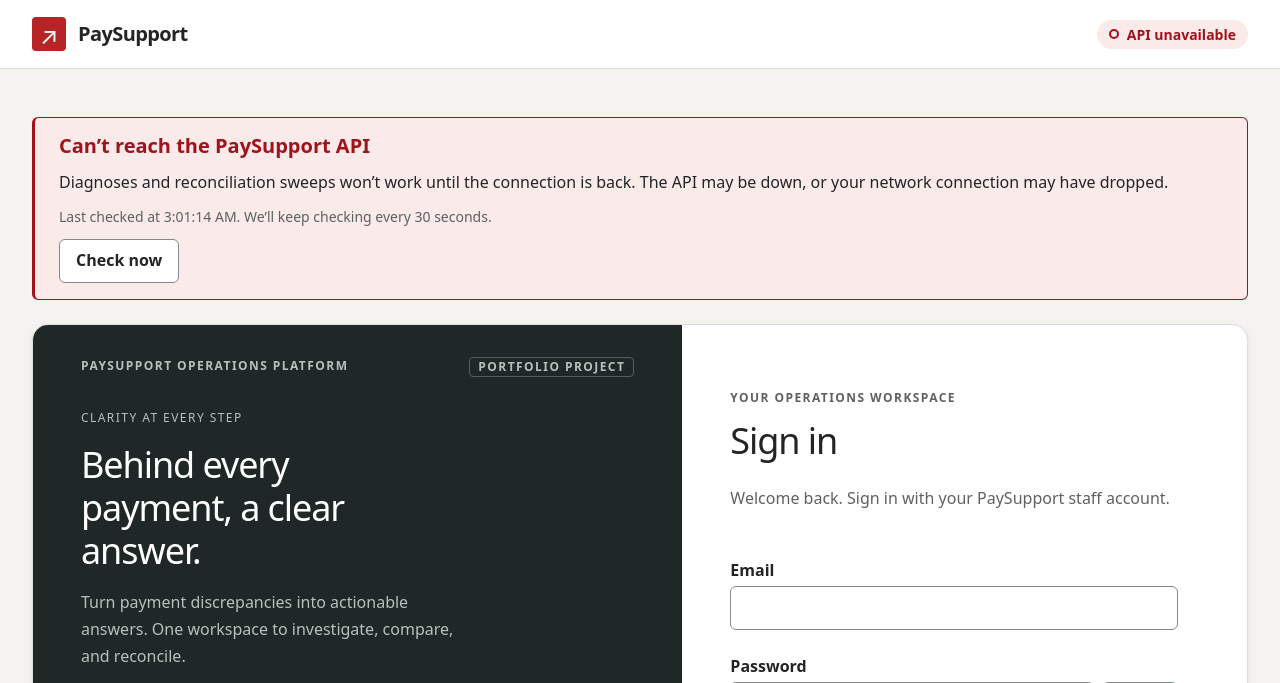
Test case: AppShell › recovers when the user checks again after the API comes back
This screenshot has width=1280, height=683.
Expected: the heading "Can’t reach the PaySupport API" is shown, [59,132,370,159]
Click the button "Check now".
click(119, 261)  # box [59,239,179,283]
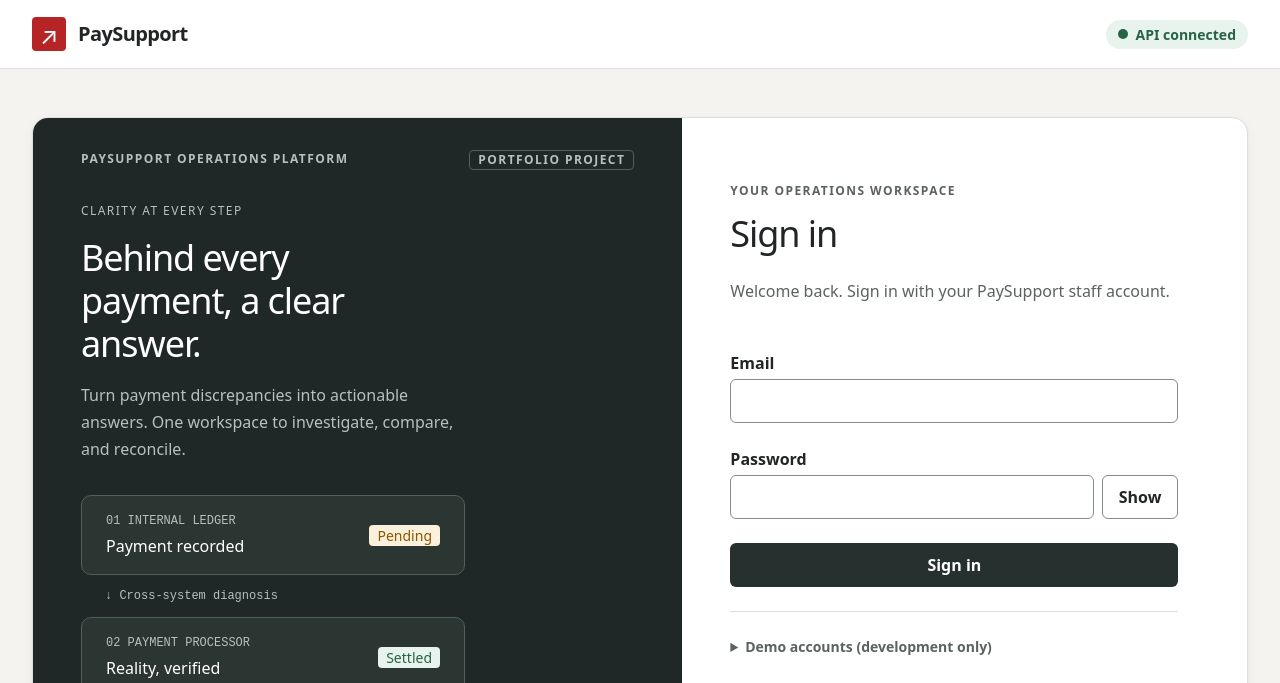
Expected: the text "API connected" is shown, [1106,20,1248,48]
Expected: the heading "can.t reach the paysupport api" is gone
